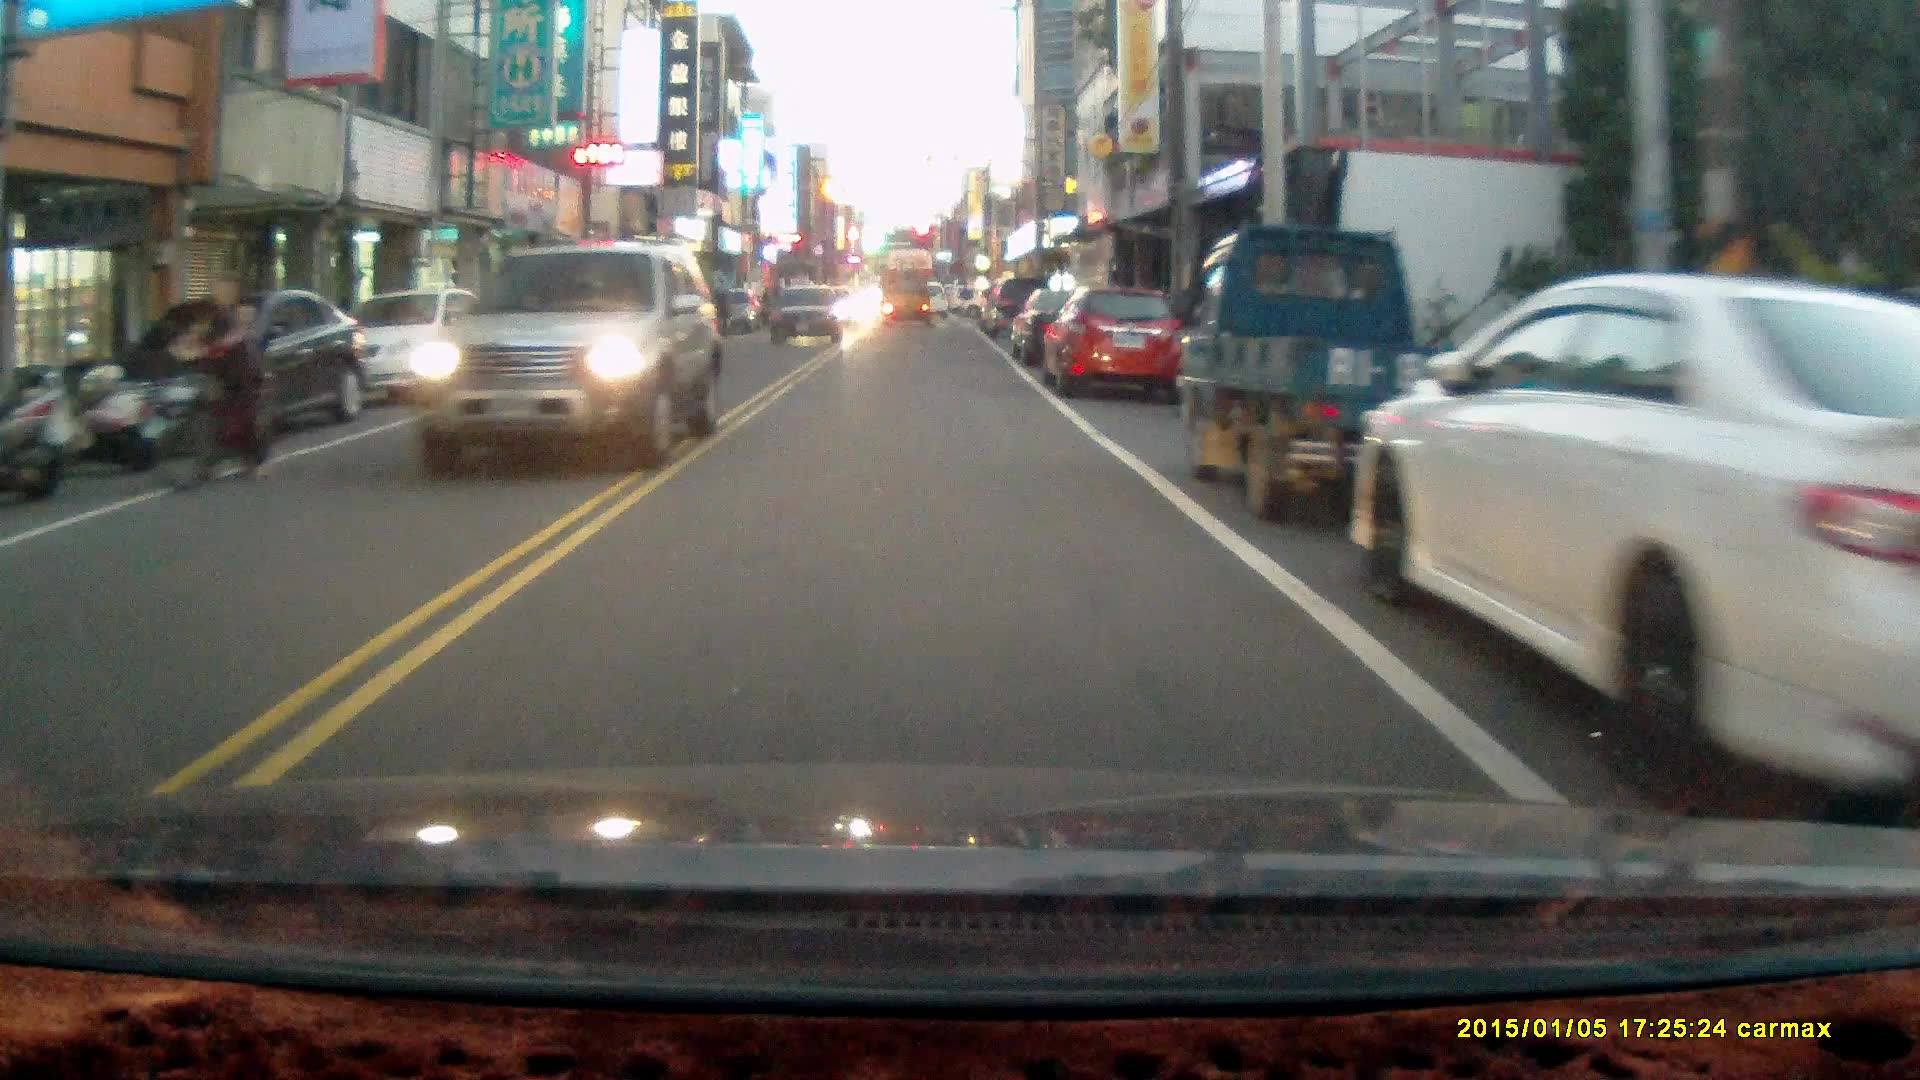pedestrian: (706, 273, 731, 343)
rider: (150, 265, 271, 492)
vehicle: (1349, 273, 1920, 814), (1180, 223, 1531, 529), (405, 245, 723, 471), (105, 290, 366, 441), (1046, 287, 1186, 400), (1006, 286, 1129, 376), (772, 284, 843, 349), (879, 268, 933, 332)
